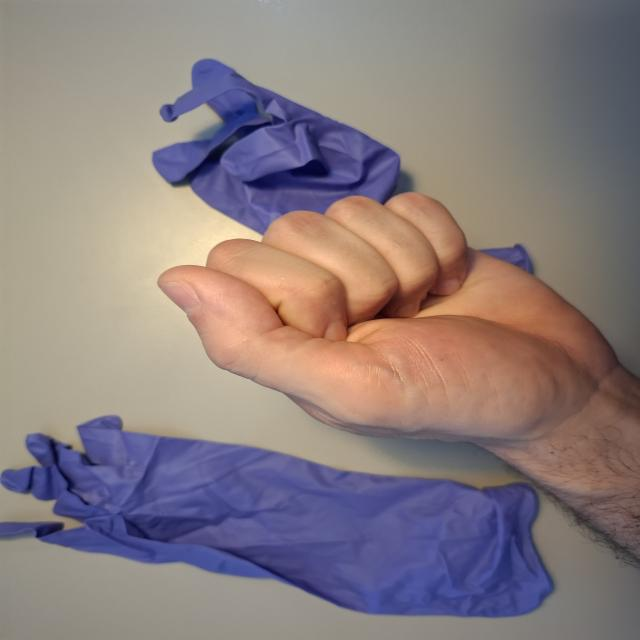glove_off: (152, 188, 632, 452)
